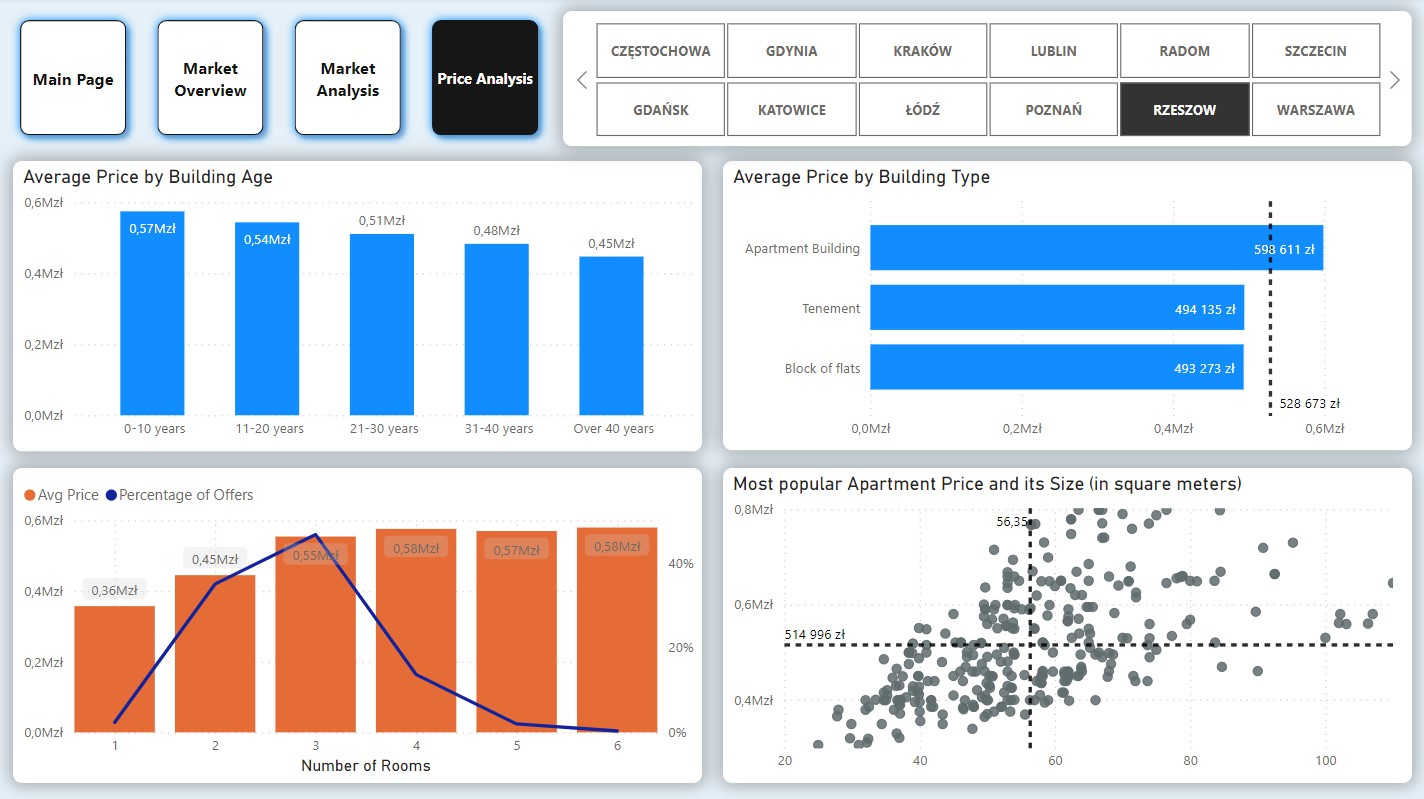

This screenshot's page, from the dashboard's own definition file:
{"tool":"powerbi","page":{"name":"Price Analysis","canvas":[1280,720],"ordinal":3},"visuals":[{"type":"scatterChart","title":"Most popular Apartment Size and its Price","fields":{"X":["_Measures.Avg Square Meters"],"Category":["Apartments_data.Index"],"Series":["DIM_City.city"],"Y":["_Measures.Avg Price"]},"box":[648.8,414.9,617.5,288.2],"z":0},{"type":"lineStackedColumnComboChart","title":"Average Price and Number of Offers by Number of Rooms","fields":{"Category":["Apartments_data.rooms"],"Y":["_Measures.Avg Price"],"Y2":["_Measures.Total Number of Offers"]},"box":[13.3,414.9,617.5,288.2],"z":1000},{"type":"columnChart","title":"Average Price by Building Age","fields":{"Category":["Apartments_data.Age Bins","FACT_Apartments_data.Age of Building"],"Y":["_Measures.Avg Price"]},"box":[13.3,145.9,617.5,259.3],"z":2000},{"type":"clusteredBarChart","title":"Average Price by Building Type","fields":{"Category":["DIM_Building_types.building_type"],"Y":["_Measures.Avg Price"]},"box":[648.8,145.9,617.5,259.3],"z":3000},{"type":"slicer","fields":{"Values":["DIM_City.city"]},"box":[506.2,11.2,760,121.2],"z":4000},{"type":"pageNavigator","box":[10.9,10.9,483.6,121.8],"z":6000}]}

Visuals, with their boxes in screenshot pixels (x1, y1, x2, y2), scaled from the page's 1280x720 canvas onto the 1424x799 screenshot:
"Most popular Apartment Size and its Price" scatterChart: locate(722, 460, 1409, 780)
"Average Price and Number of Offers by Number of Rooms" lineStackedColumnComboChart: locate(15, 460, 702, 780)
"Average Price by Building Age" columnChart: locate(15, 162, 702, 450)
"Average Price by Building Type" clusteredBarChart: locate(722, 162, 1409, 450)
slicer - DIM_City.city: locate(563, 12, 1409, 147)
pageNavigator: locate(12, 12, 550, 147)
